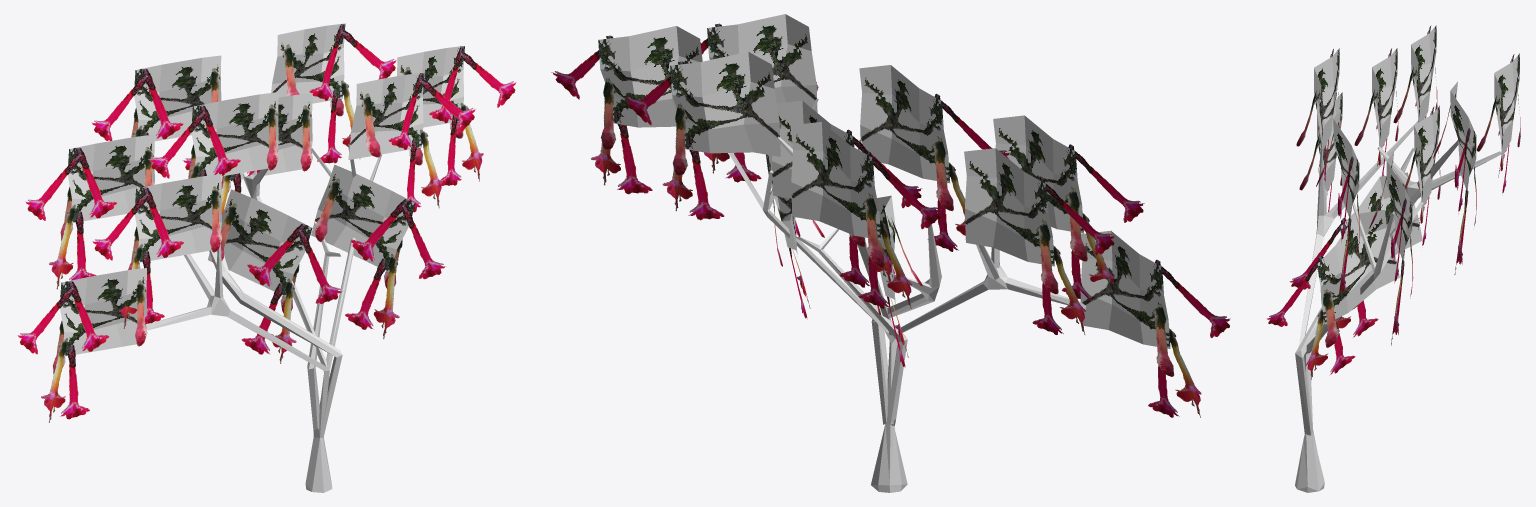
The model's file is Cantuta.fbx.
3 renders of one model, left to right at view 1: azimuth 30°, elevation 25°; view 2: azimuth 150°, elevation 25°; view 3: azimuth 270°, elevation 25°, orthographic. The views are drawn at different scales.
Visible parts, largest first — view 1: Tree, CantutaBranch.010, CantutaBranch, CantutaBranch.006, CantutaBranch.001, CantutaBranch.002, CantutaBranch.008, CantutaBranch.003, CantutaBranch.005, CantutaBranch.004, CantutaBranch.007, CantutaBranch.009; view 2: CantutaBranch.005, Tree, CantutaBranch.004, CantutaBranch.002, CantutaBranch, CantutaBranch.003, CantutaBranch.007, CantutaBranch.001, CantutaBranch.008, CantutaBranch.009, CantutaBranch.006, CantutaBranch.010; view 3: Tree, CantutaBranch.010, CantutaBranch.006, CantutaBranch.007, CantutaBranch.008, CantutaBranch.005, CantutaBranch.004, CantutaBranch.003, CantutaBranch.001, CantutaBranch.009, CantutaBranch.002, CantutaBranch.
Part boxes in pixels (box(x1,y1,x2,y2)): Tree: box(146, 143, 381, 492); CantutaBranch.010: box(311, 164, 446, 339); CantutaBranch: box(17, 268, 147, 422); CantutaBranch.006: box(208, 189, 343, 363); CantutaBranch.001: box(91, 174, 222, 328); CantutaBranch.002: box(25, 134, 154, 289); CantutaBranch.008: box(348, 72, 475, 212); CantutaBranch.003: box(148, 92, 278, 178); CantutaBranch.005: box(271, 23, 396, 163); CantutaBranch.004: box(91, 55, 221, 141); CantutaBranch.007: box(397, 46, 516, 185); CantutaBranch.009: box(182, 93, 312, 214); CantutaBranch.005: box(623, 51, 781, 220); Tree: box(728, 98, 1086, 492); CantutaBranch.004: box(790, 122, 941, 308); CantutaBranch.002: box(964, 148, 1115, 334); CantutaBranch: box(1080, 230, 1230, 417); CantutaBranch.003: box(859, 65, 1010, 251); CantutaBranch.007: box(551, 26, 702, 194); CantutaBranch.001: box(993, 115, 1144, 301); CantutaBranch.008: box(700, 14, 818, 182); CantutaBranch.009: box(772, 100, 922, 287); CantutaBranch.006: box(877, 195, 922, 367); CantutaBranch.010: box(766, 154, 824, 319); Tree: box(1295, 120, 1501, 492); CantutaBranch.010: box(1266, 209, 1399, 379); CantutaBranch.006: box(1289, 172, 1422, 337); CantutaBranch.007: box(1369, 152, 1413, 345); CantutaBranch.008: box(1316, 110, 1359, 302); CantutaBranch.005: box(1433, 81, 1476, 274); CantutaBranch.004: box(1477, 53, 1520, 193); CantutaBranch.003: box(1354, 48, 1398, 176); CantutaBranch.001: box(1296, 48, 1340, 180); CantutaBranch.009: box(1404, 105, 1440, 245); CantutaBranch.002: box(1393, 25, 1437, 123); CantutaBranch: box(1299, 92, 1342, 211).
Bounding box in the file's own units: 792 × 563 × 309.
